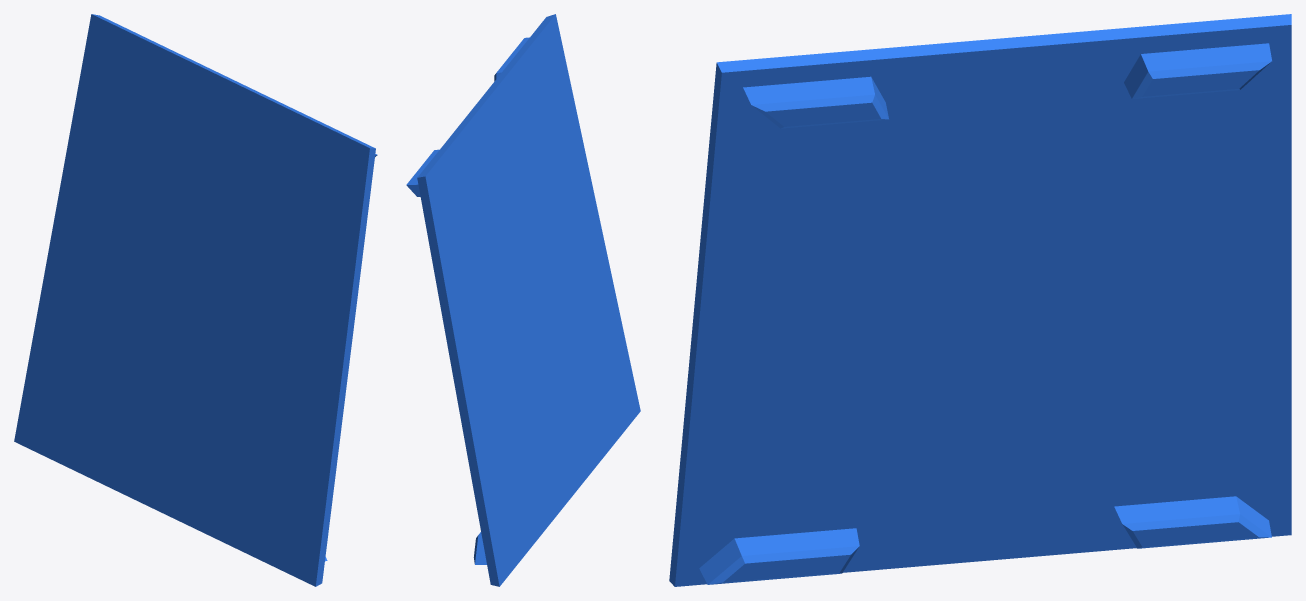
File: Baluminaria-Seg04.fbx
3 views of the same model, side by side, from view 1: azimuth 30°, elevation 25°; view 2: azimuth 150°, elevation 25°; view 3: azimuth 270°, elevation 25° (orthographic). The views are drawn at different scales.
Visible parts, largest first — view 1: Seg04; view 2: Seg04; view 3: Seg04.
Boxes of the visible parts, left/top/right/bottom form: Seg04: left=14, top=14, right=377, bottom=586; Seg04: left=406, top=14, right=640, bottom=586; Seg04: left=669, top=14, right=1291, bottom=586.
Size of the model in its own units: 1465 by 3366 by 3348.
